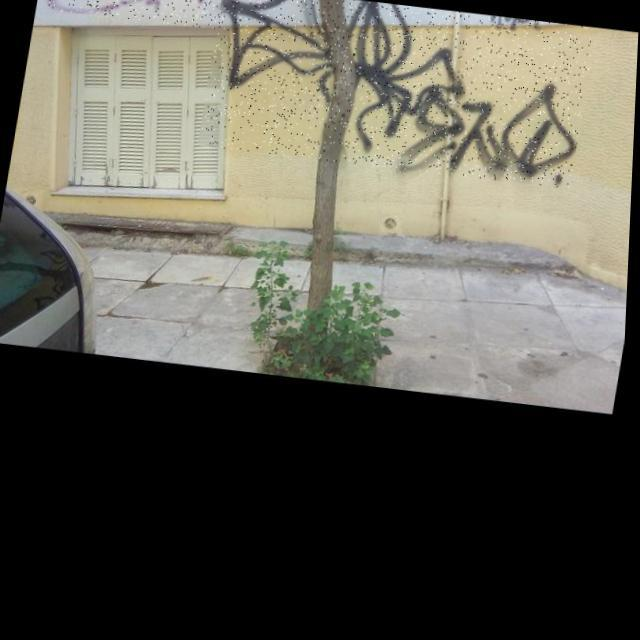-: (196, 0, 597, 191), (47, 0, 232, 31)
